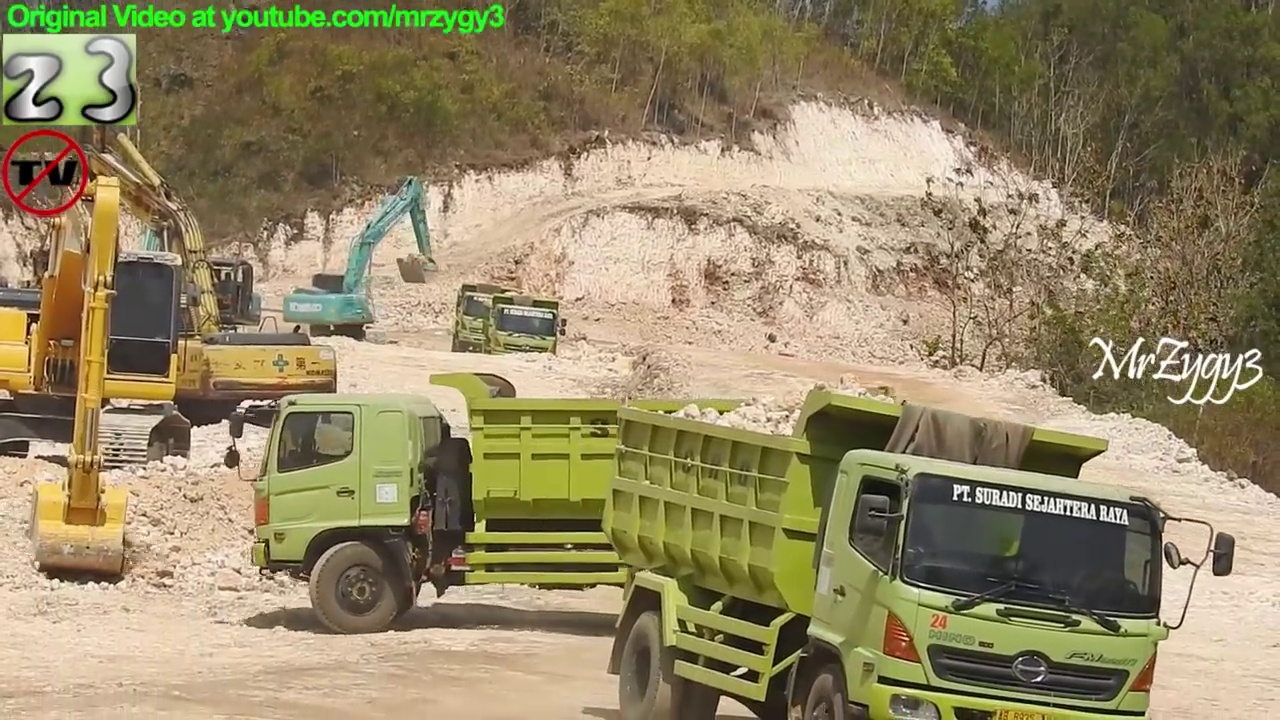excavator: (6, 95, 344, 454), (1, 167, 198, 586), (113, 176, 281, 371), (279, 172, 441, 341)
truck: (596, 381, 1241, 720), (223, 368, 910, 638), (485, 292, 568, 372), (450, 279, 526, 361)
